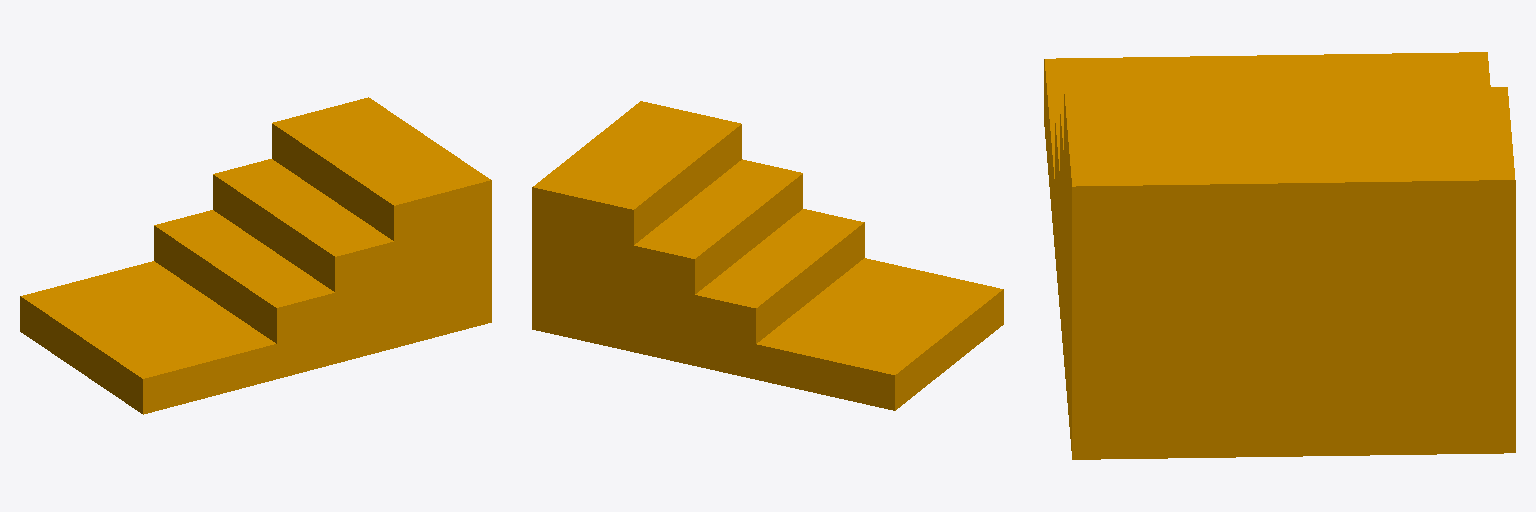
URDF robot description (multi_boxes):
<?xml version="1.0"?>
<robot name="multi_boxes">
  <link name="multi_boxes_link">
    <visual><geometry><mesh filename="./multi_boxes.obj" scale="1.0 1.0 1.0"/></geometry></visual>
  </link>
</robot>

--- What the picture shows (computed from the rendered views, not written in the file) ---
3 views of the same robot in one strip: view 1: azimuth 30°, elevation 25°; view 2: azimuth 150°, elevation 25°; view 3: azimuth 270°, elevation 25° (orthographic).
Model multi_boxes with 1 links and 0 joints (none), rooted at multi_boxes_link, posed every joint at zero.
Visible links, largest first — view 1: multi_boxes_link; view 2: multi_boxes_link; view 3: multi_boxes_link.
Boxes of the visible links, <box> form: multi_boxes_link: <box>20,97,491,414</box>; multi_boxes_link: <box>532,101,1003,410</box>; multi_boxes_link: <box>1044,52,1515,459</box>.
Size in the robot's own frame: 1.81 by 1.06 by 0.68 metres.
1 mesh visuals loaded from 1 distinct referenced files (1 OBJ).
